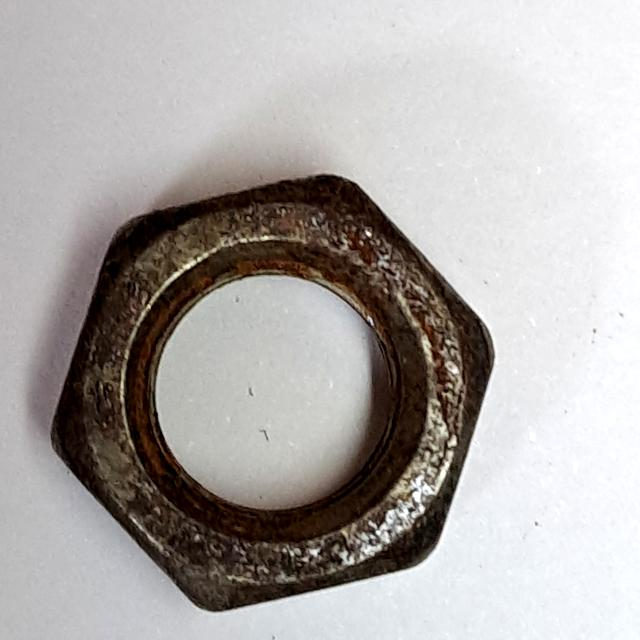Rust: (36, 165, 502, 625)
